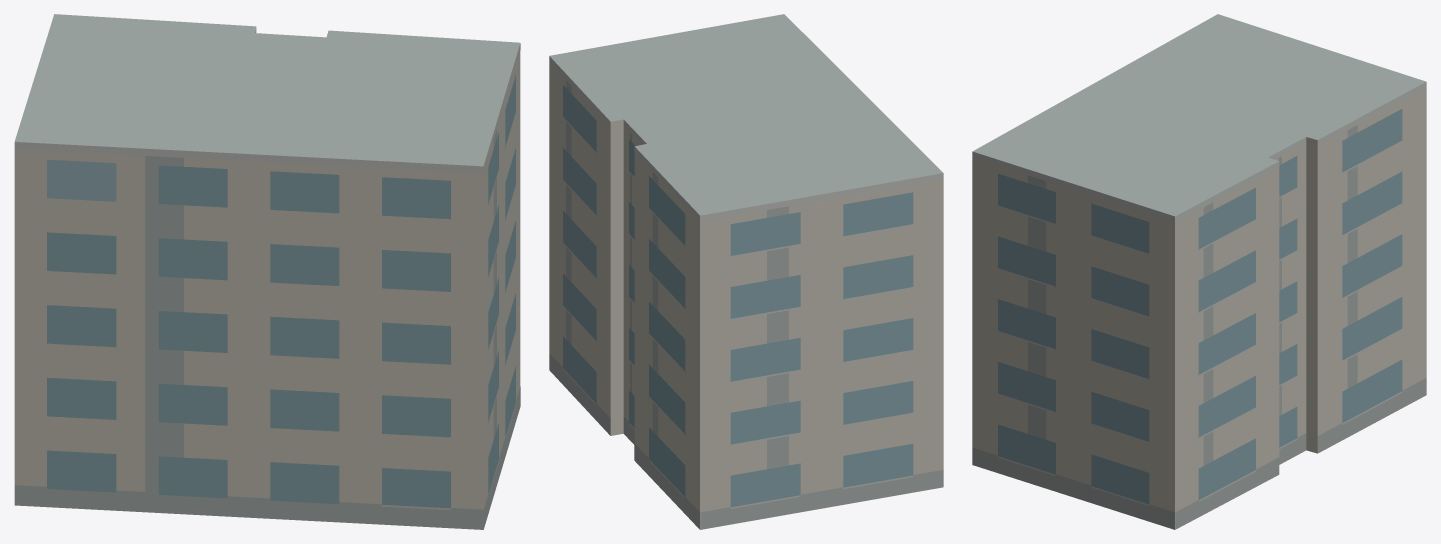
The model's file is survey-upis-33019263.glb.
The picture shows the model from 3 angles, left to right: view 1: azimuth 30°, elevation 25°; view 2: azimuth 150°, elevation 25°; view 3: azimuth 270°, elevation 25°; orthographic projection. The views are drawn at different scales.
Visible parts, largest first — view 1: survey-upis-33019263.tmp; view 2: survey-upis-33019263.tmp; view 3: survey-upis-33019263.tmp.
Boxes of the visible parts, box(x1,y1,x2,y2) form: survey-upis-33019263.tmp: box(14, 14, 520, 529); survey-upis-33019263.tmp: box(549, 14, 943, 529); survey-upis-33019263.tmp: box(972, 14, 1426, 529).
Bounding box in the file's own units: 17.18 × 12.4 × 16.29.
